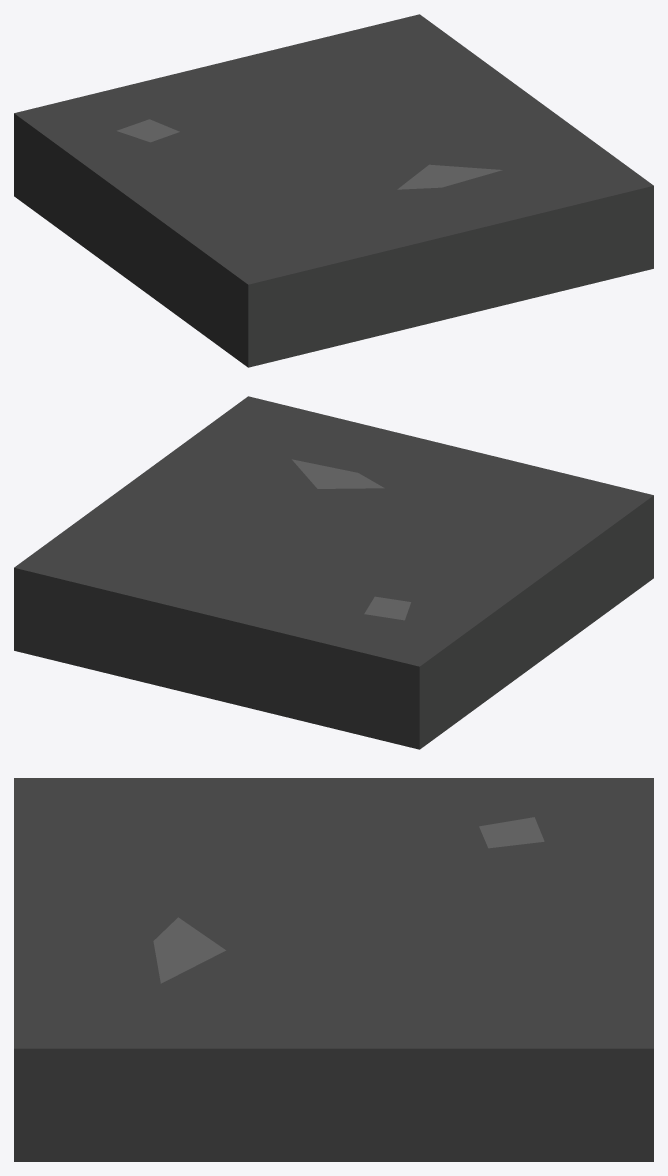
Rendered from Ground_3_2.glb.
3 views of the same model, one above another, from view 1: azimuth 30°, elevation 25°; view 2: azimuth 150°, elevation 25°; view 3: azimuth 270°, elevation 25° (orthographic). The views are drawn at different scales.
Visible parts, largest first — view 1: Ground_3_2; view 2: Ground_3_2; view 3: Ground_3_2.
Part boxes in pixels (x1,y1,x2,y2): Ground_3_2: (14, 14, 653, 367); Ground_3_2: (14, 396, 653, 749); Ground_3_2: (14, 778, 653, 1161).
Bounding box in the file's own units: 2 × 0.3912 × 2.
1 material, 1 textured.
